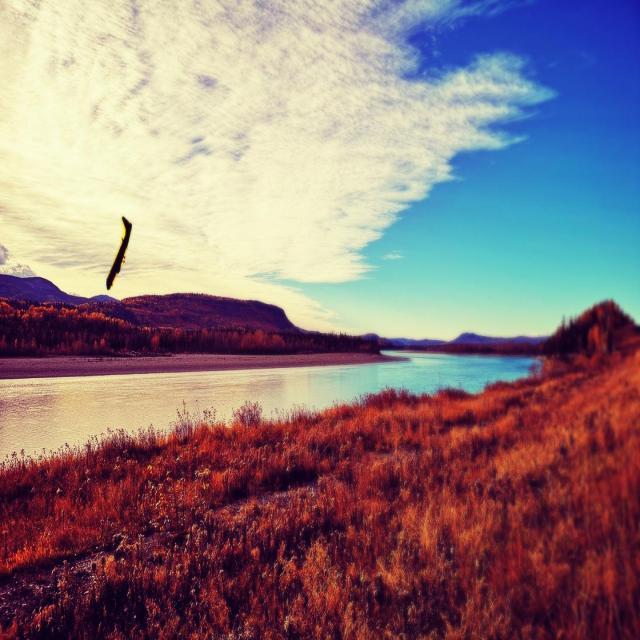airplane: (106, 215, 132, 290)
